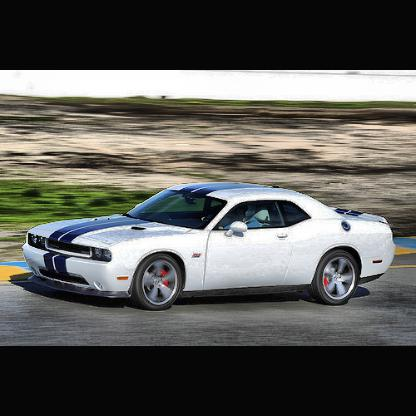Dodge Challenger SRT8 2011: (23, 181, 399, 311)
